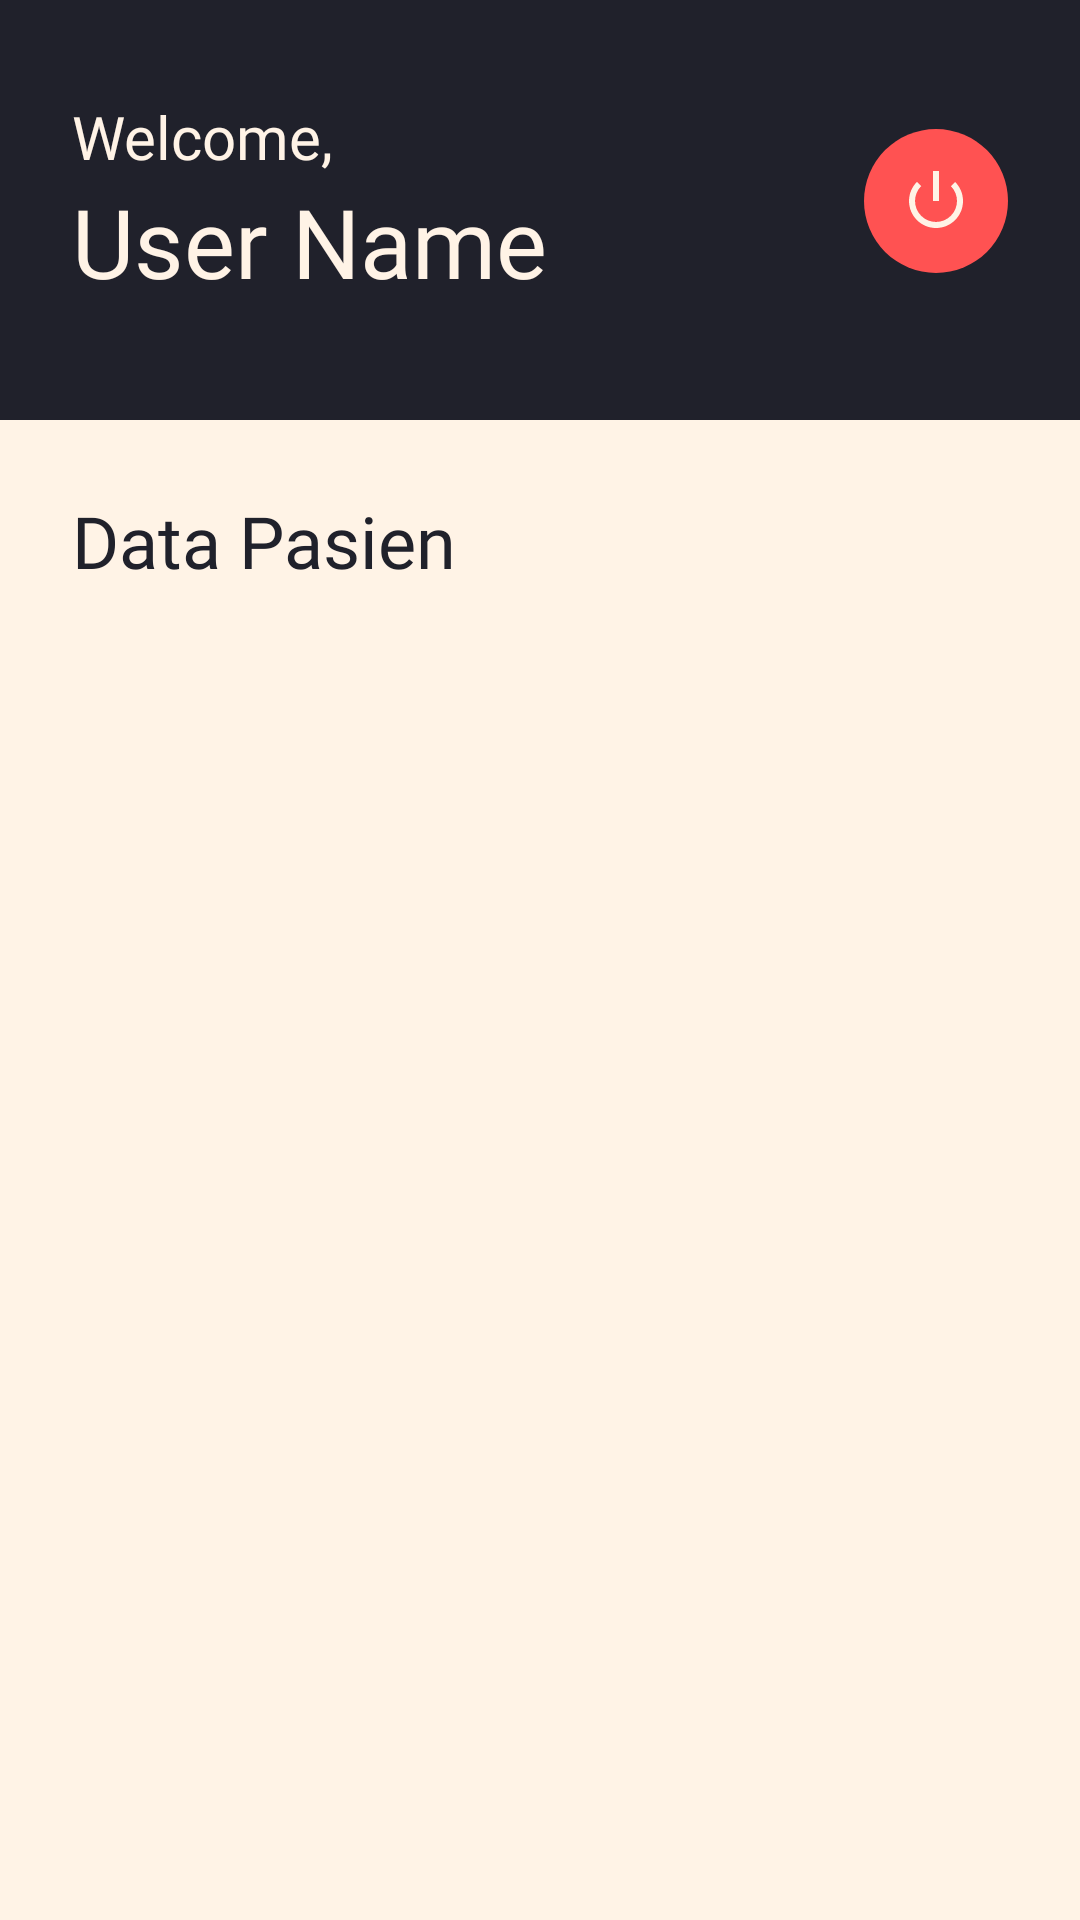

Named icons in this screenshot (1080 x 1920) and their centers, (x,y):
lock power off: (936,201)
